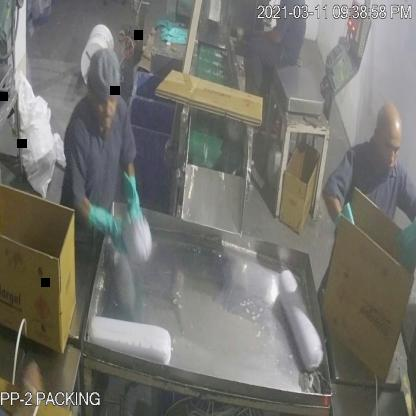glove: (391, 206, 416, 268)
